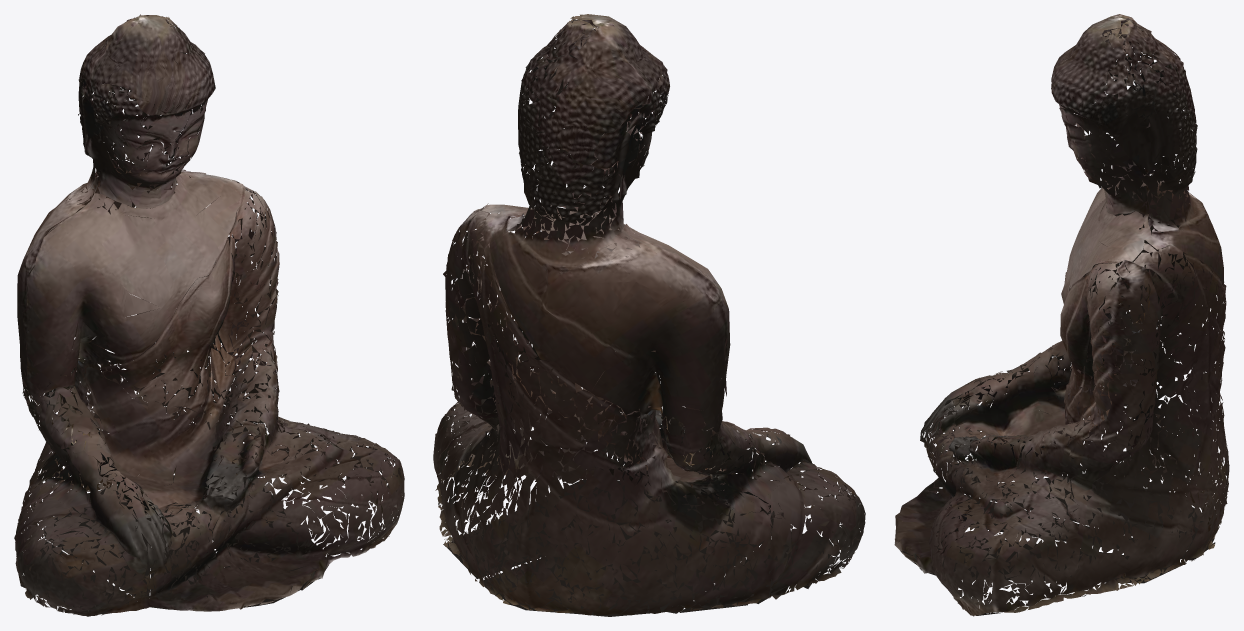
The picture shows the model from 3 angles, left to right: view 1: azimuth 30°, elevation 25°; view 2: azimuth 150°, elevation 25°; view 3: azimuth 270°, elevation 25°; orthographic projection. The views are drawn at different scales.
Visible parts, largest first — view 1: statue-060; view 2: statue-060; view 3: statue-060.
Boxes of the visible parts, <box> form: statue-060: <box>14,14,404,616</box>; statue-060: <box>433,14,865,616</box>; statue-060: <box>894,14,1229,616</box>.
Bounding box in the file's own units: 0.7631 × 1 × 0.5895.
Materials: 1 (1 with a texture image).
